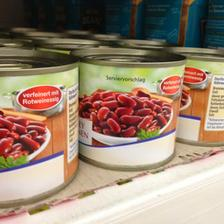Bohnen: (76, 47, 188, 172), (1, 51, 72, 209)
